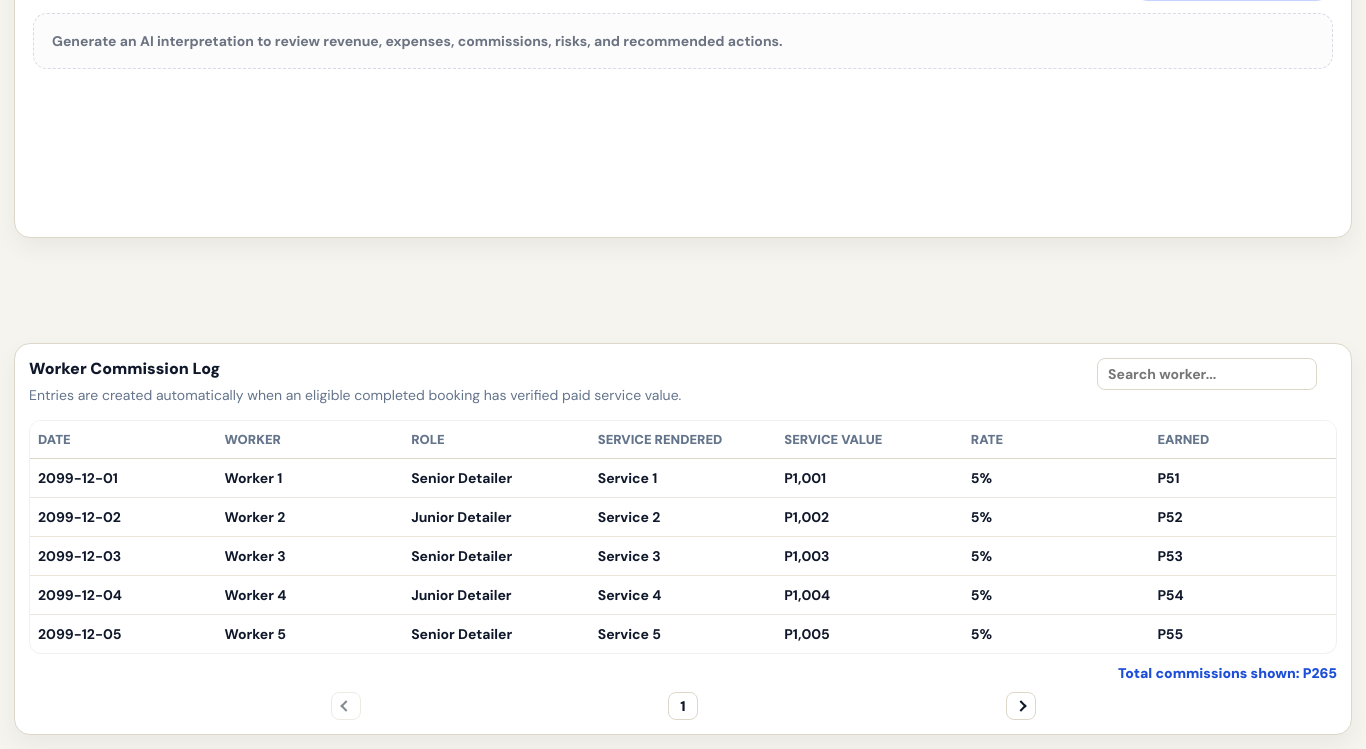
Test: Financial Tracker commission log pagination › commission search resets pagination and applies to filtered results
The image size is (1366, 749).
(page scrolled)
Click the button named "Next commission page".
click(1020, 706)  # box x1=1006 y1=692 x2=1036 y2=720
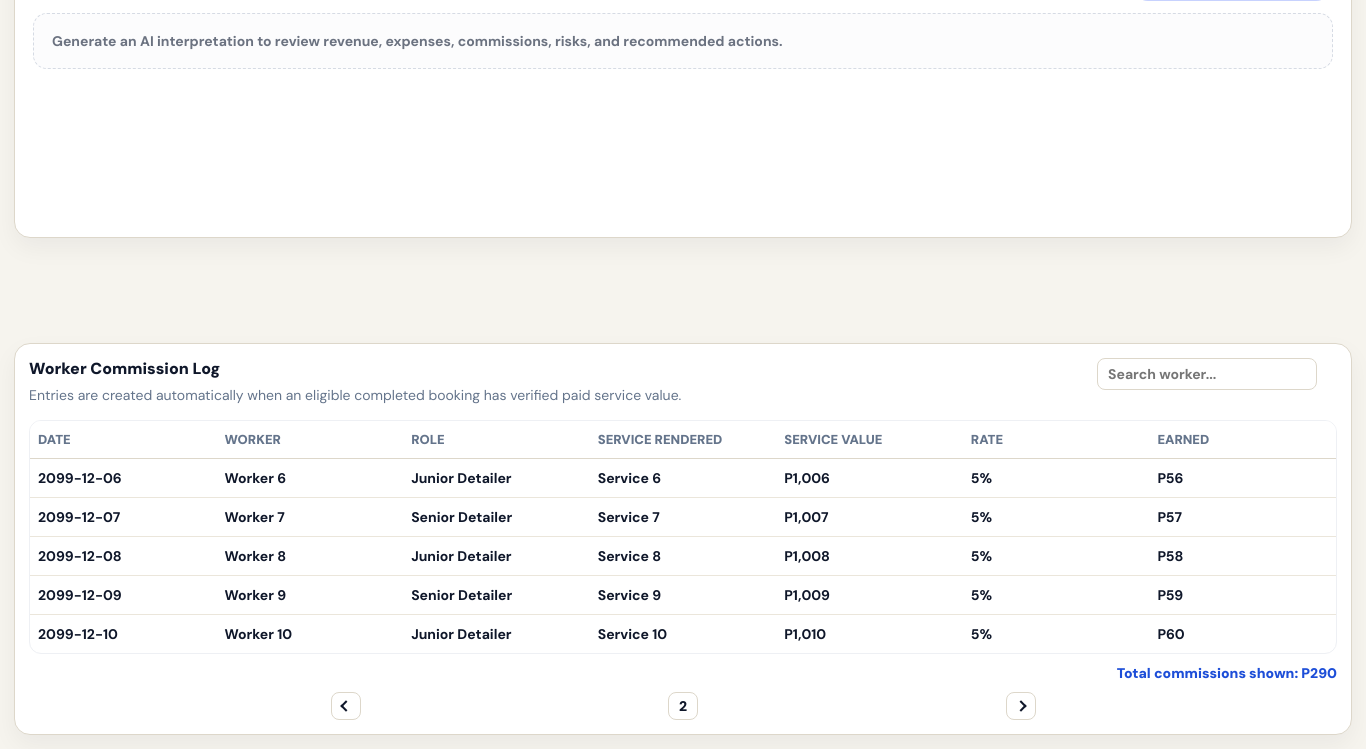
Check: the text named "Commission page 2" is shown, box x1=668 y1=692 x2=698 y2=720
Type "Worker 12" into the field with placeholder "Search worker...".
click(1207, 374); type("Worker 12")  # box x1=1097 y1=358 x2=1317 y2=390
(page scrolled)
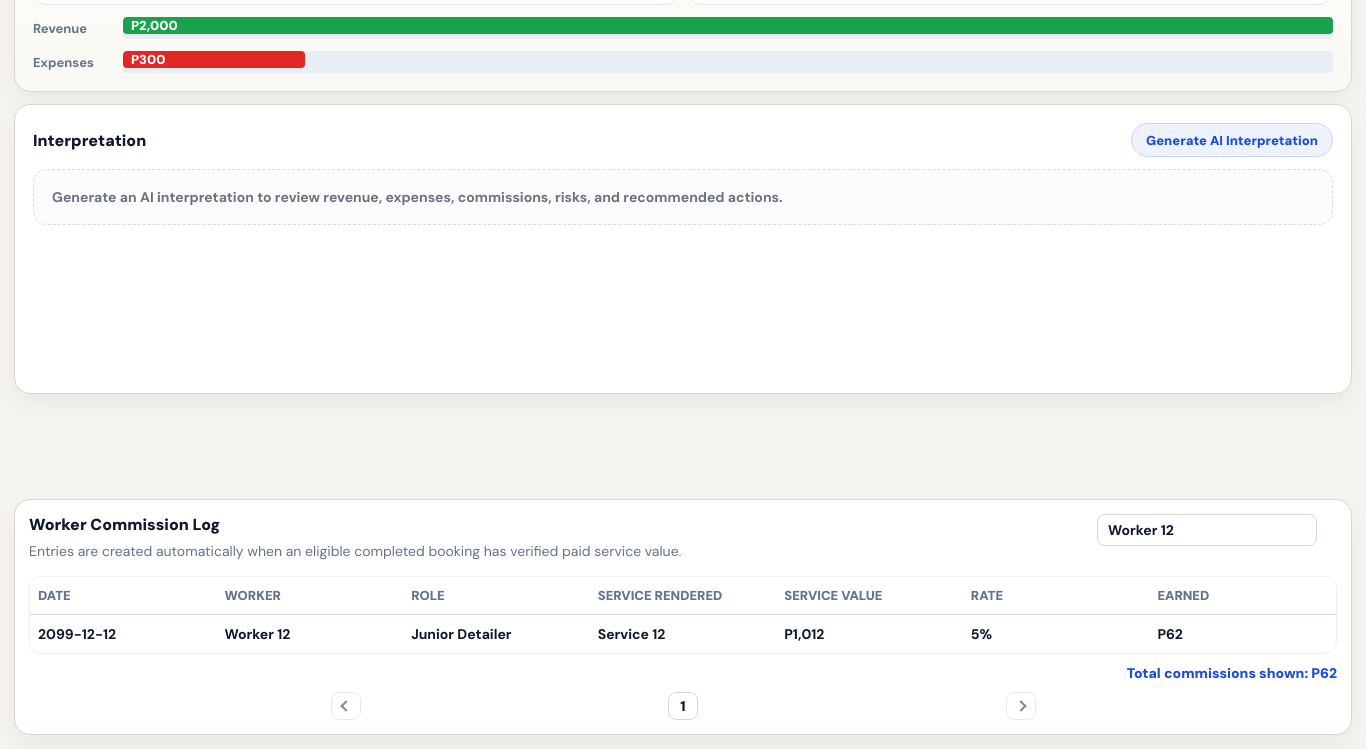
Check: the text named "Commission page 1" is shown, box x1=668 y1=692 x2=698 y2=720
Check: the text "Worker 12" is shown, box x1=217 y1=614 x2=403 y2=653
Check: the button named "Previous commission page" is disabled, box x1=330 y1=692 x2=360 y2=720
